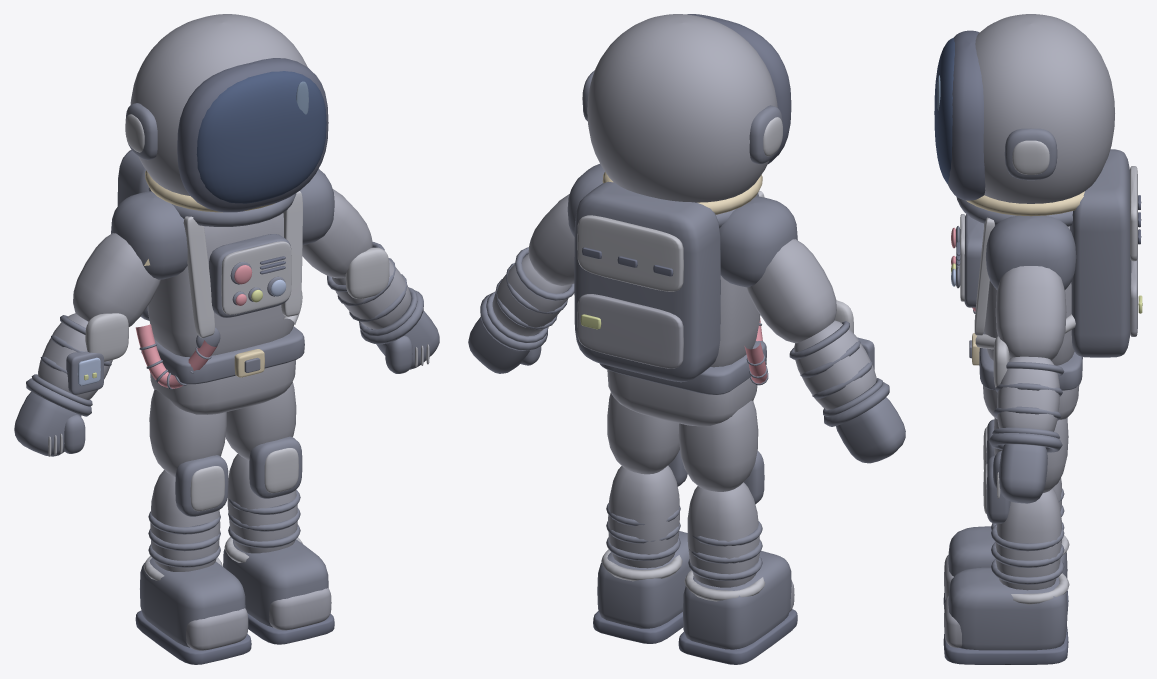
File: human_astronaut.glb
3 renders of one model, left to right at view 1: azimuth 30°, elevation 25°; view 2: azimuth 150°, elevation 25°; view 3: azimuth 270°, elevation 25°, orthographic. The views are drawn at different scales.
Visible parts, largest first — view 1: Visor glass, Helmet shell, Torso, Right boot, Visor black gasket, Right upper arm, Left boot, Right shoulder, Right thigh, Pelvis, Left shin, Right shin (+33 smaller); view 2: Helmet shell, Life support backpack, Right boot, Right upper arm, Backpack lower panel, Backpack upper panel, Left shin, Right shin, Right thigh, Right shoulder, Left boot, Pelvis (+22 smaller); view 3: Helmet shell, Life support backpack, Left boot, Left upper arm, Visor black gasket, Left shoulder, Left shin, Left forearm, Left mitten glove, Visor glass, Left boot sole, Right boot (+26 smaller).
Part boxes in pixels (left/top/right/bottom): Visor glass: left=196, top=71, right=326, bottom=203; Helmet shell: left=130, top=14, right=307, bottom=195; Torso: left=147, top=213, right=294, bottom=357; Right boot: left=140, top=558, right=245, bottom=647; Visor black gasket: left=177, top=58, right=328, bottom=212; Right upper arm: left=73, top=233, right=160, bottom=327; Left boot: left=223, top=539, right=328, bottom=627; Right shoulder: left=111, top=191, right=187, bottom=279; Right thigh: left=149, top=390, right=226, bottom=476; Pelvis: left=150, top=360, right=295, bottom=414; Left shin: left=227, top=454, right=297, bottom=553; Right shin: left=150, top=470, right=220, bottom=571; Helmet shell: left=587, top=14, right=777, bottom=202; Life support backpack: left=574, top=181, right=720, bottom=382; Right boot: left=683, top=551, right=791, bottom=649; Right upper arm: left=746, top=239, right=836, bottom=343; Backpack lower panel: left=577, top=294, right=683, bottom=368; Backpack upper panel: left=577, top=215, right=683, bottom=291; Left shin: left=608, top=465, right=679, bottom=568; Right shin: left=687, top=482, right=759, bottom=587; Right thigh: left=678, top=400, right=758, bottom=491; Right shoulder: left=719, top=196, right=797, bottom=287; Left boot: left=597, top=531, right=690, bottom=628; Pelvis: left=607, top=370, right=757, bottom=426; Helmet shell: left=975, top=14, right=1114, bottom=203; Life support backpack: left=1070, top=149, right=1131, bottom=357; Left boot: left=948, top=567, right=1067, bottom=650; Left upper arm: left=995, top=266, right=1066, bottom=360; Visor black gasket: left=947, top=30, right=985, bottom=200; Left shoulder: left=986, top=215, right=1076, bottom=289; Left shin: left=995, top=488, right=1061, bottom=590; Left forearm: left=997, top=356, right=1059, bottom=431; Left mitten glove: left=999, top=444, right=1047, bottom=503; Visor glass: left=934, top=37, right=954, bottom=183; Left boot sole: left=943, top=627, right=1068, bottom=664; Right boot: left=948, top=526, right=1067, bottom=578.
Bounding box in the file's own units: 1.44 × 1.98 × 0.616.
